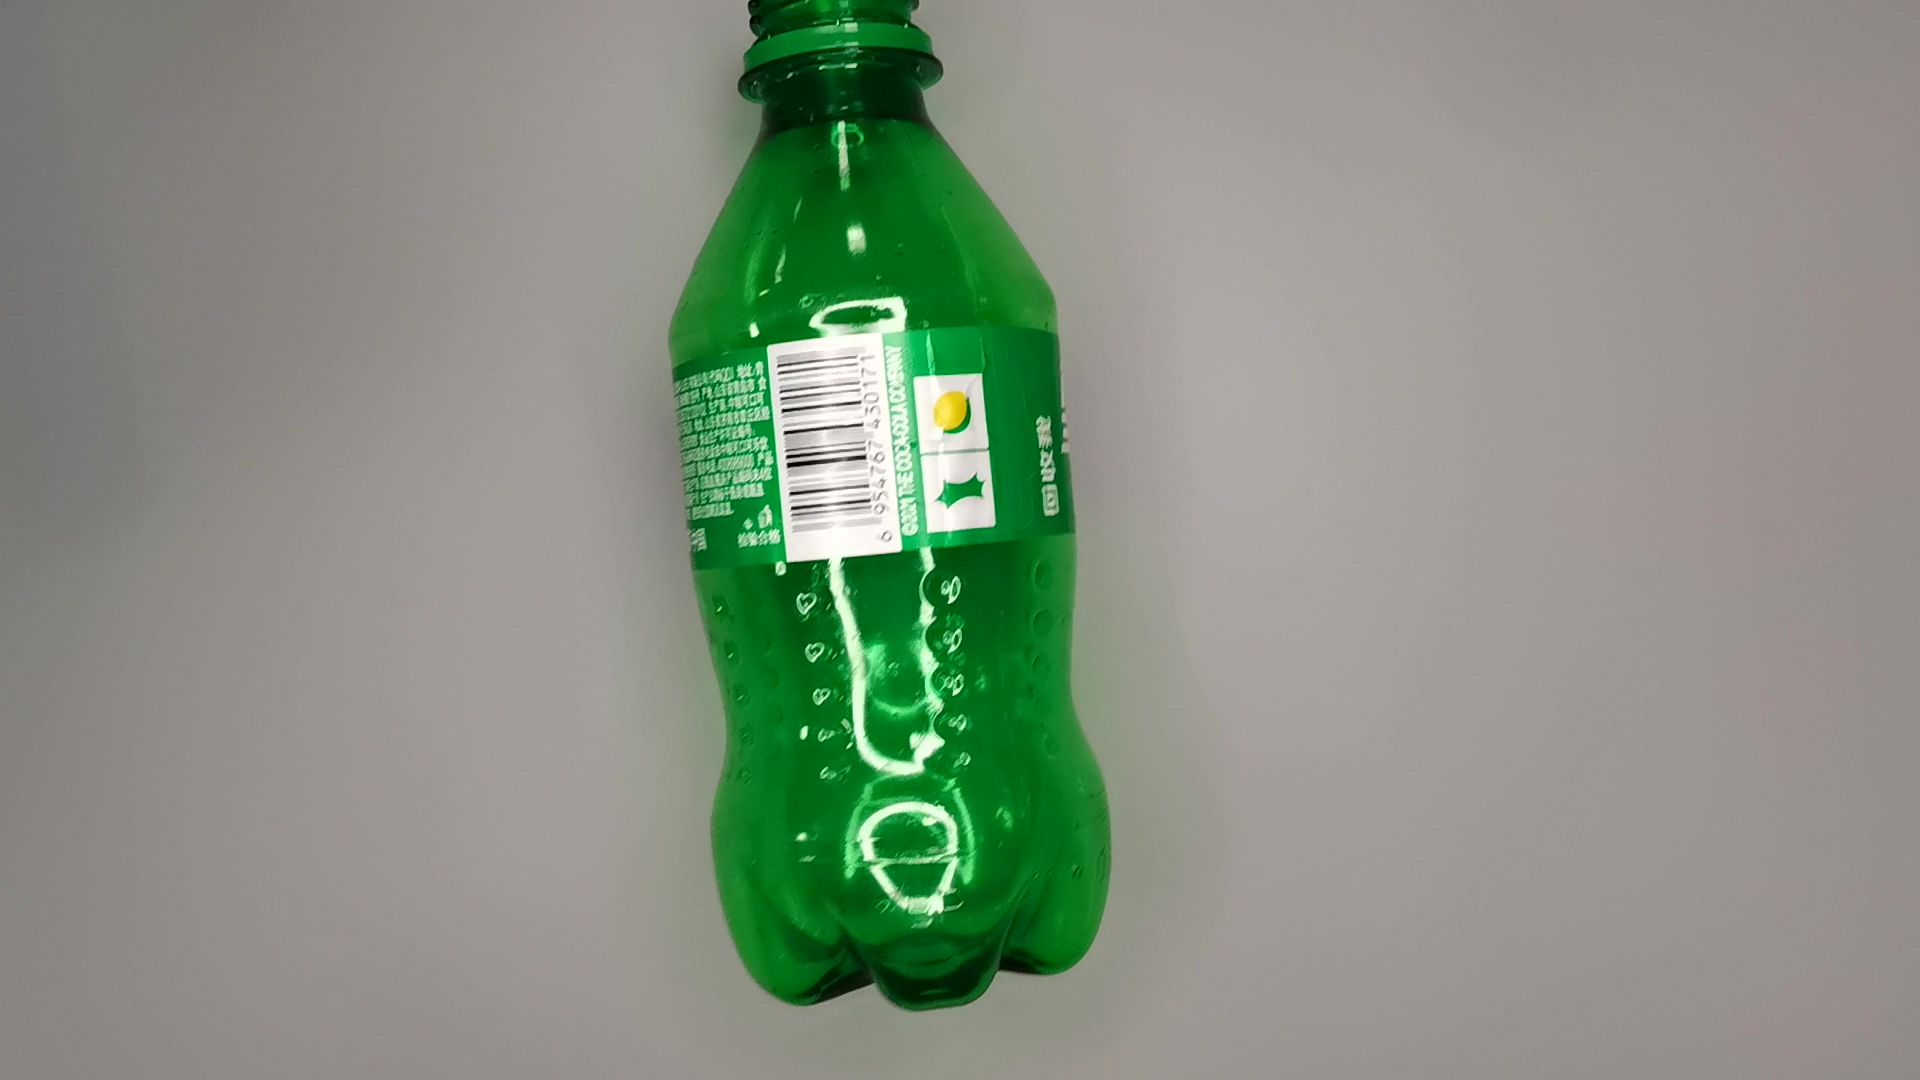bottle: (669, 1, 1124, 1011)
